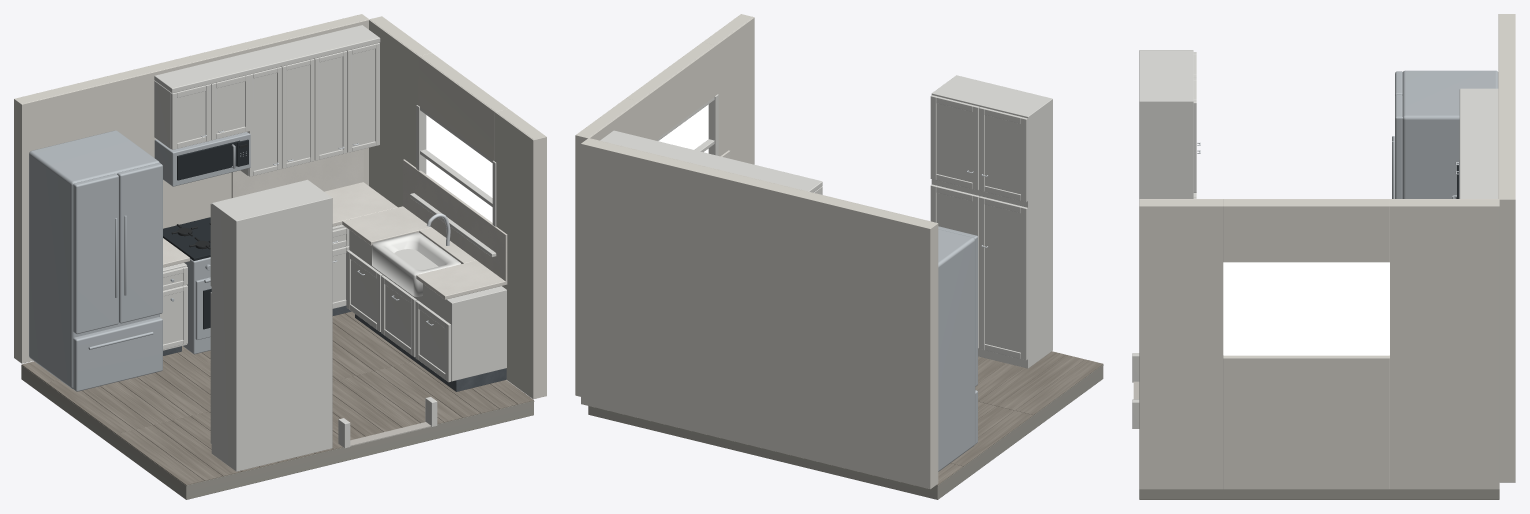
The model's file is capitol-hill-condo-kitchen-renovation.glb.
3 renders of one model, left to right at view 1: azimuth 30°, elevation 25°; view 2: azimuth 150°, elevation 25°; view 3: azimuth 270°, elevation 25°, orthographic. The views are drawn at different scales.
Visible parts, largest first — view 1: Entry pantry, Room floor · tile, Sink and window wall · trowelled face, French door, Fridge freezer, Range wall · trowelled face, Upper door · inset, Room floor · foundation, White shaker · base cabinet.001, Sink and window wall · wall core, Pull-out freezer, Range wall · wall core (+31 smaller); view 2: Range wall · wall core, Pantry doors · inset, Entry pantry, Sink and window wall · trowelled face, Fridge freezer, Room floor · tile, Room floor · foundation, Pantry doors · stile, Sink and window wall · wall core, Pantry doors · rail, Crown molding, Kitchen sash · frosted glazing (+4 smaller); view 3: Sink and window wall · wall core, Kitchen sash · frosted glazing, Entry pantry, Fridge freezer, Range wall · wall core, Room floor · foundation, Crown molding, Crown molding.001, French door, Entry jamb · cutaway.
Boxes of the visible parts, x1,y1,x2,y2 form: Entry pantry: [211, 179, 332, 471]; Room floor · tile: [21, 311, 533, 485]; Sink and window wall · trowelled face: [369, 19, 534, 399]; French door: [73, 163, 162, 334]; Fridge freezer: [29, 130, 159, 388]; Range wall · trowelled face: [21, 19, 369, 363]; Upper door · inset: [253, 49, 375, 170]; Room floor · foundation: [21, 366, 533, 499]; White shaker · base cabinet.001: [349, 230, 506, 381]; Sink and window wall · wall core: [370, 16, 546, 398]; Pull-out freezer: [73, 317, 162, 391]; Range wall · wall core: [14, 14, 368, 362]; Range wall · wall core: [581, 138, 937, 489]; Pantry doors · inset: [936, 103, 1020, 352]; Entry pantry: [931, 75, 1052, 368]; Sink and window wall · trowelled face: [588, 17, 754, 164]; Fridge freezer: [938, 229, 975, 471]; Room floor · tile: [936, 351, 1103, 485]; Room floor · foundation: [588, 366, 1103, 499]; Pantry doors · stile: [930, 95, 1027, 360]; Sink and window wall · wall core: [575, 14, 753, 396]; Pantry doors · rail: [936, 96, 1021, 358]; Crown molding: [600, 130, 743, 172]; Kitchen sash · frosted glazing: [658, 104, 708, 153]; Sink and window wall · wall core: [1139, 199, 1499, 489]; Kitchen sash · frosted glazing: [1223, 262, 1389, 355]; Entry pantry: [1139, 50, 1193, 198]; Fridge freezer: [1402, 70, 1498, 198]; Range wall · wall core: [1499, 14, 1515, 482]; Room floor · foundation: [1139, 489, 1499, 499]; Crown molding: [1459, 130, 1498, 198]; Crown molding.001: [1459, 88, 1498, 129]; French door: [1395, 71, 1402, 198]; Entry jamb · cutaway: [1132, 353, 1139, 428].
Bounding box in the file's own units: 3.52 × 2.57 × 2.97.
Materials: 14 (3 with a texture image).
